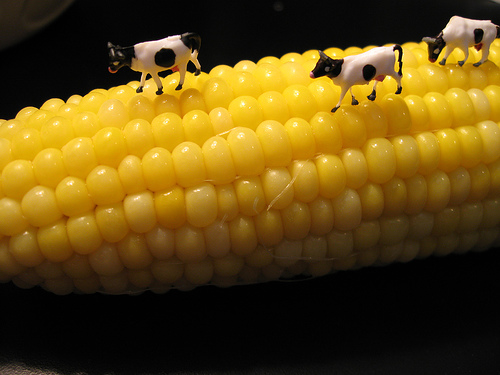corn: (0, 35, 499, 279)
